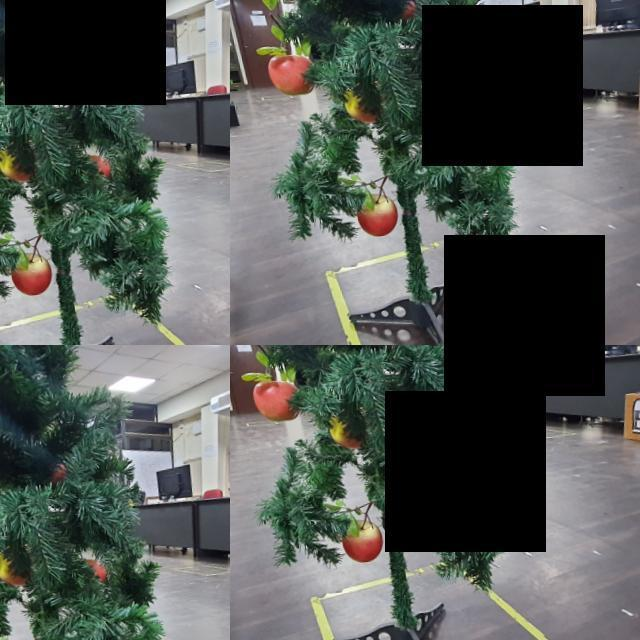Tree: (231, 1, 537, 346), (231, 346, 522, 640), (1, 1, 231, 346), (1, 341, 164, 640)
